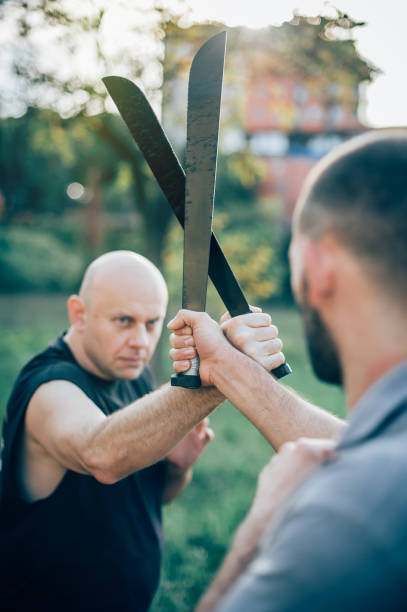knife: (99, 27, 296, 393), (97, 72, 292, 384)
